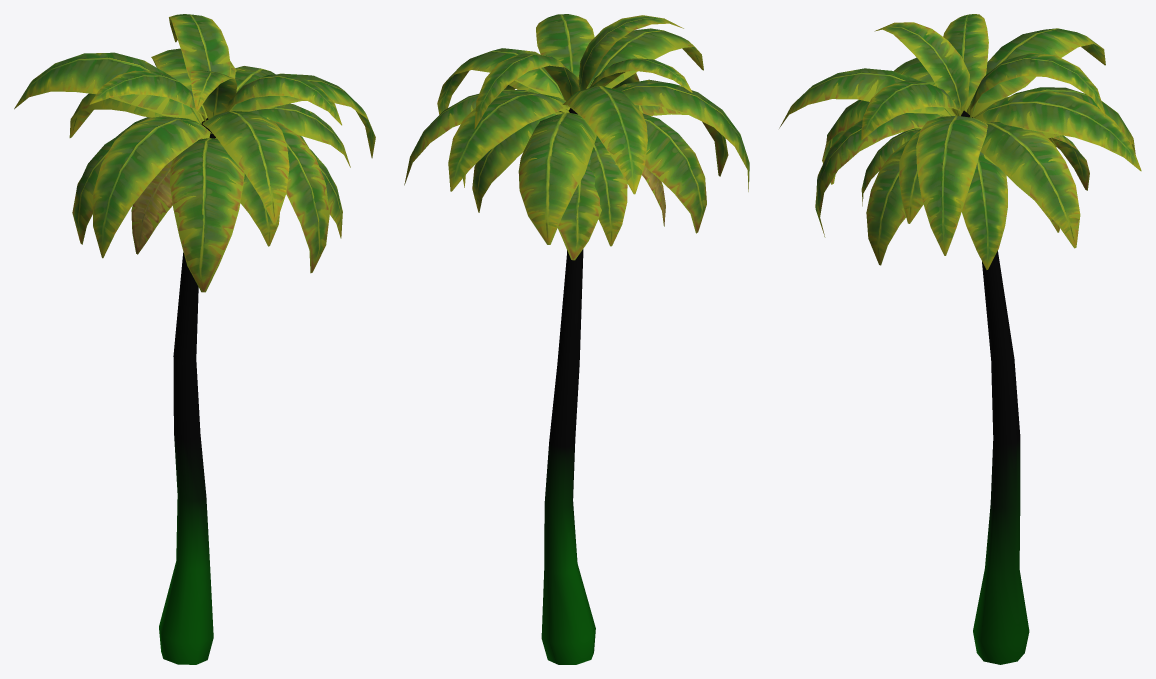
Rendered from P_PalmTree05.obj.
The picture shows the model from 3 angles, left to right: view 1: azimuth 30°, elevation 25°; view 2: azimuth 150°, elevation 25°; view 3: azimuth 270°, elevation 25°; orthographic projection.
Size of the model in its own units: 7.38 by 14.86 by 7.96.
